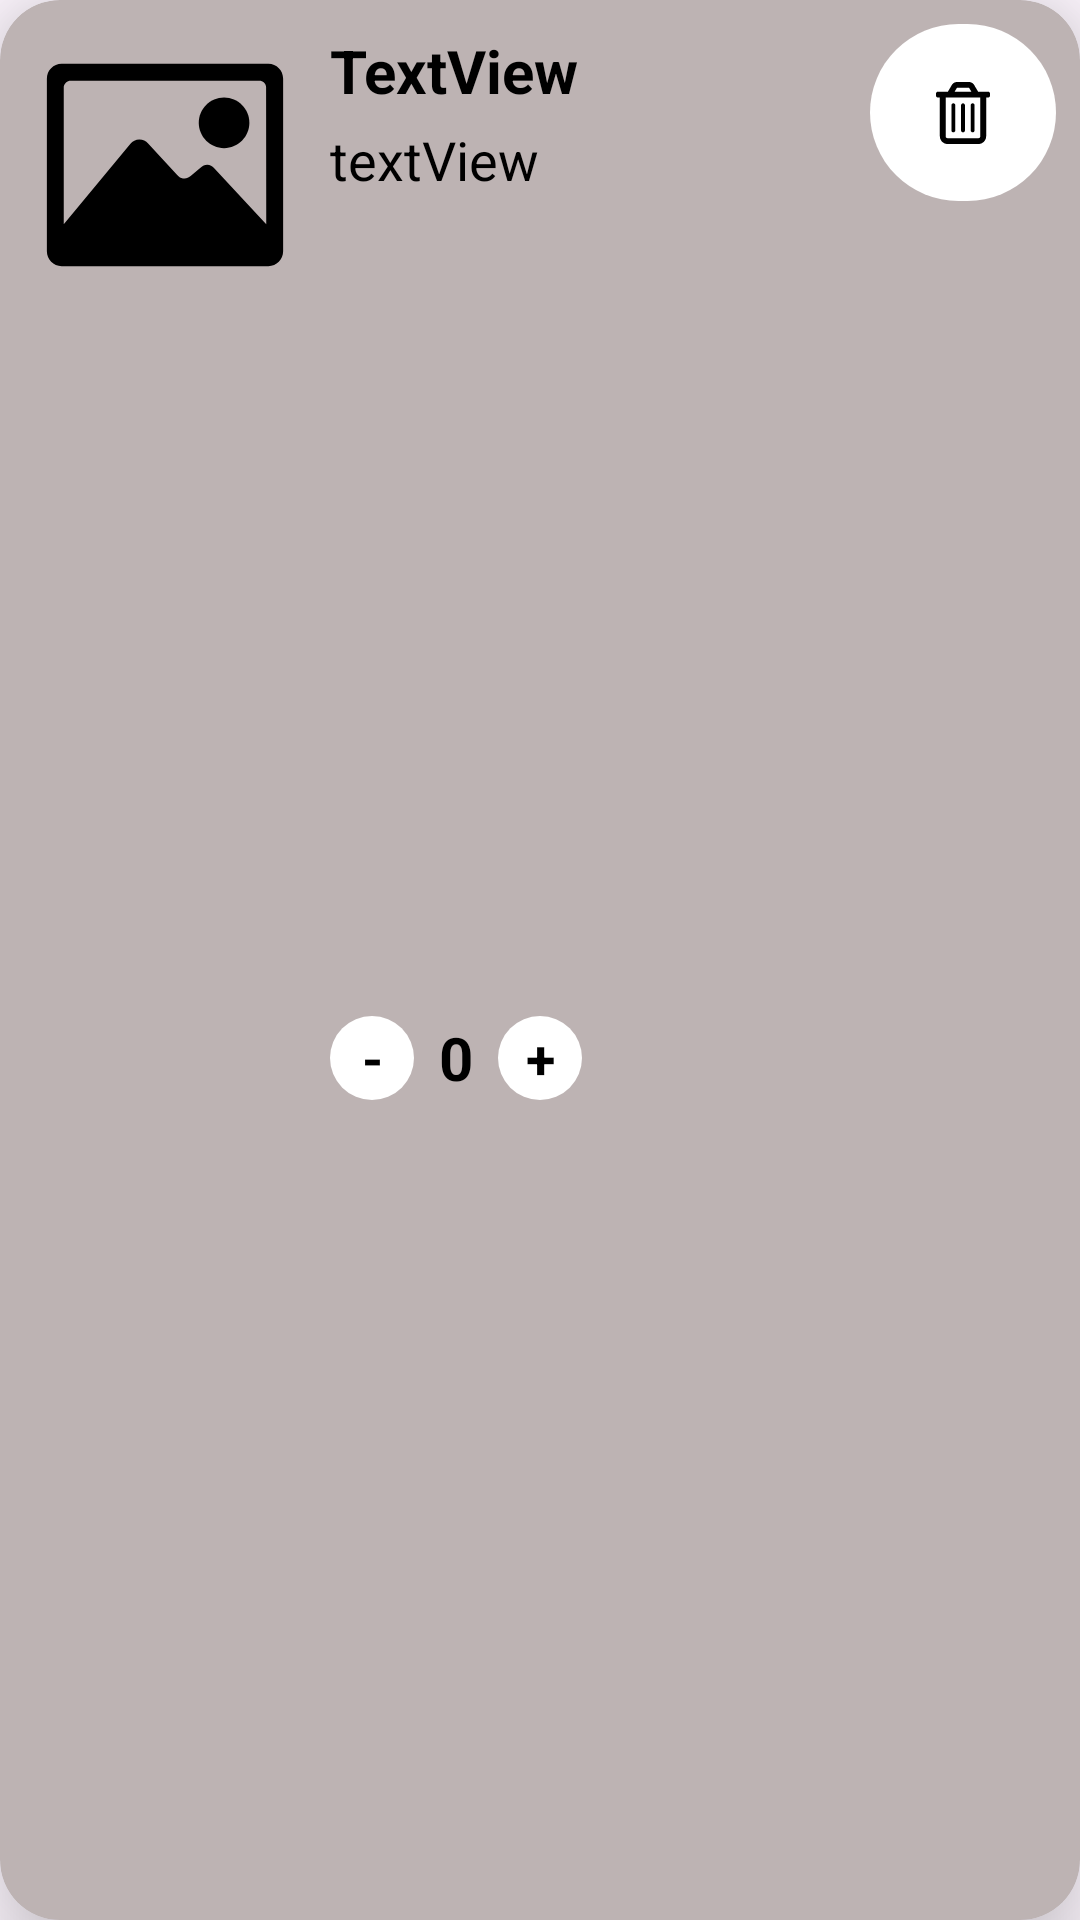

Where to tap for icons on this 1080 x 1920 app screen, as (x,y):
delete: (963,112)
